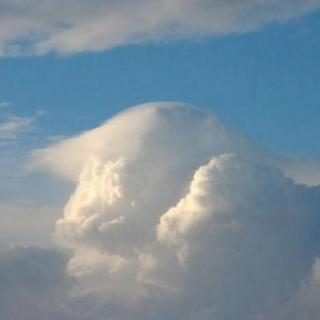Cumulus: (0, 113, 320, 320), (0, 0, 320, 54)
